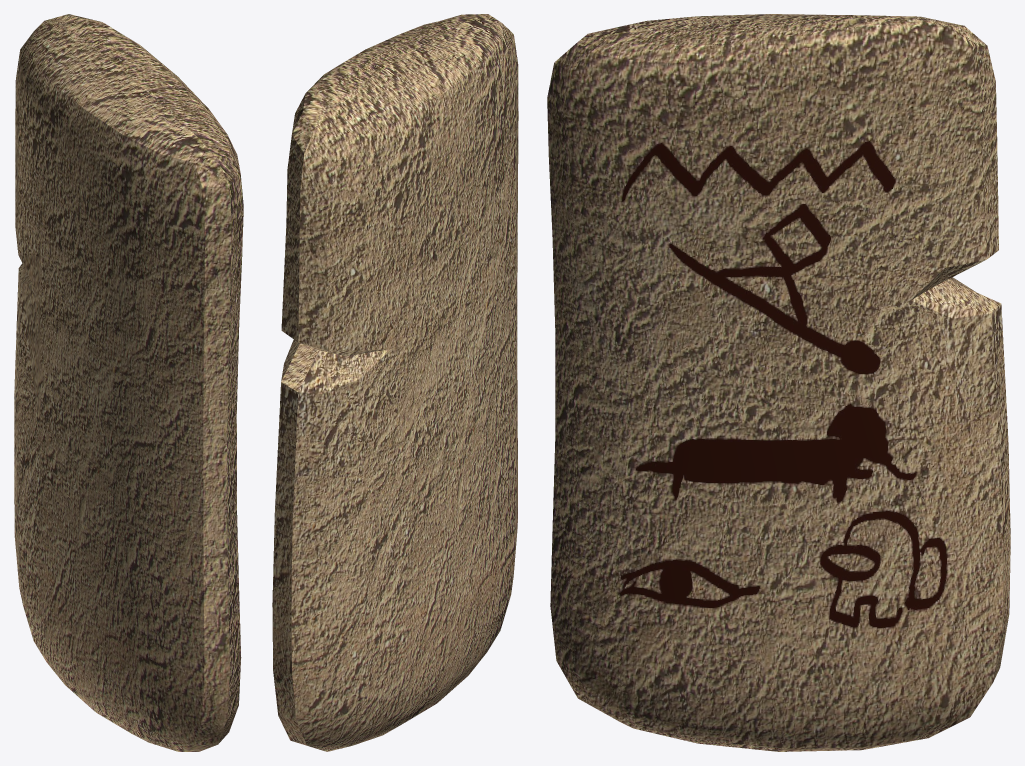
Rendered from jeroglifico2.fbx.
3 renders of one model, left to right at view 1: azimuth 30°, elevation 25°; view 2: azimuth 150°, elevation 25°; view 3: azimuth 270°, elevation 25°, orthographic. The views are drawn at different scales.
Visible parts, largest first — view 1: Jeroglifico; view 2: Jeroglifico; view 3: Jeroglifico.
Part boxes in pixels (x1,y1,x2,y2): Jeroglifico: (14, 14, 243, 751); Jeroglifico: (272, 14, 518, 751); Jeroglifico: (547, 14, 1010, 751).
Bounding box in the file's own units: 56.53 × 324 × 185.
